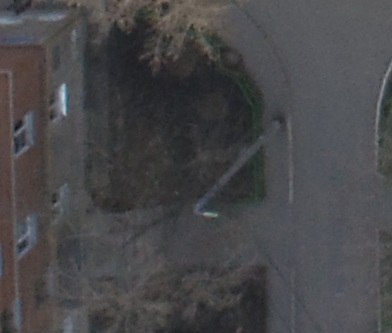opora: (189, 118, 284, 219)
